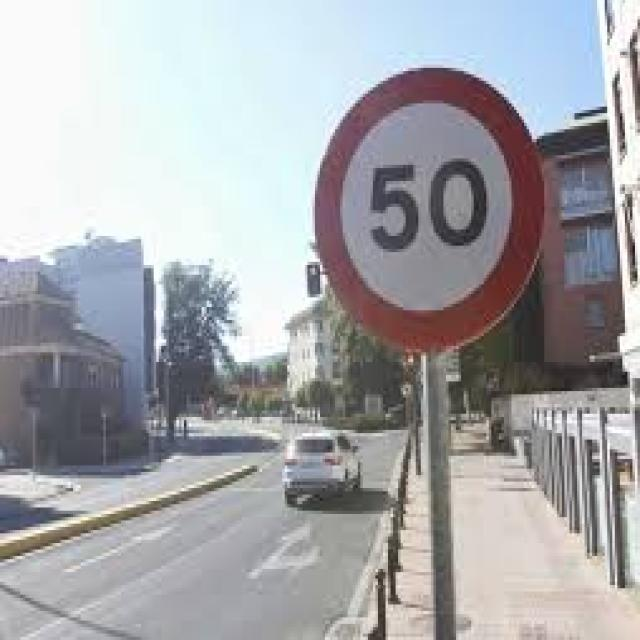Speed limit 50: (311, 59, 548, 357)
